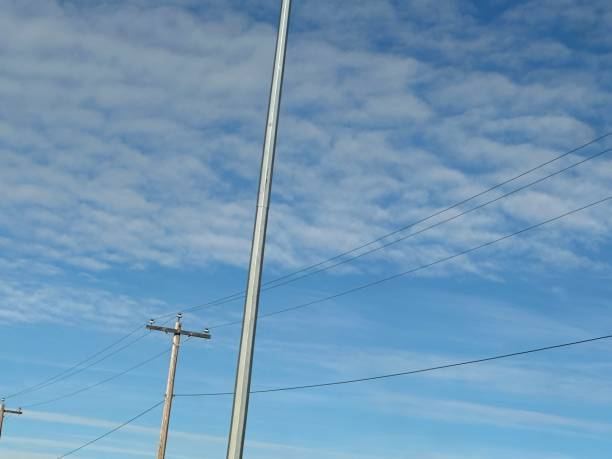light_pole: (226, 9, 296, 459)
